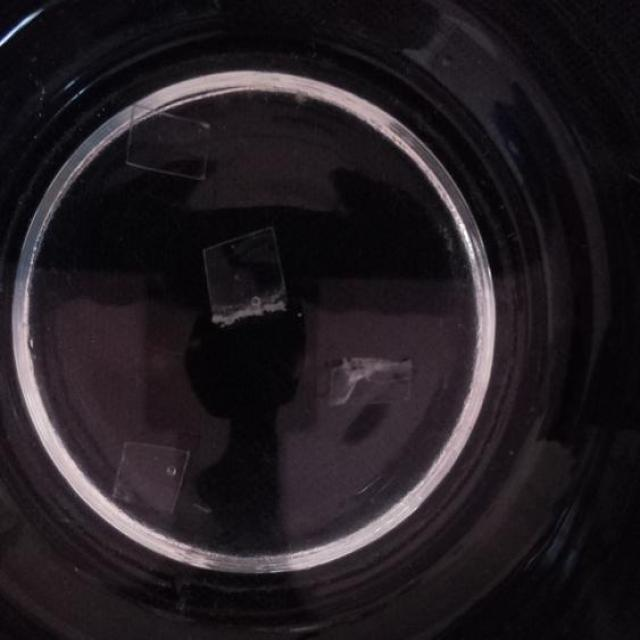fiber: (199, 220, 291, 329), (120, 104, 214, 184), (109, 436, 192, 521), (321, 354, 418, 406)
